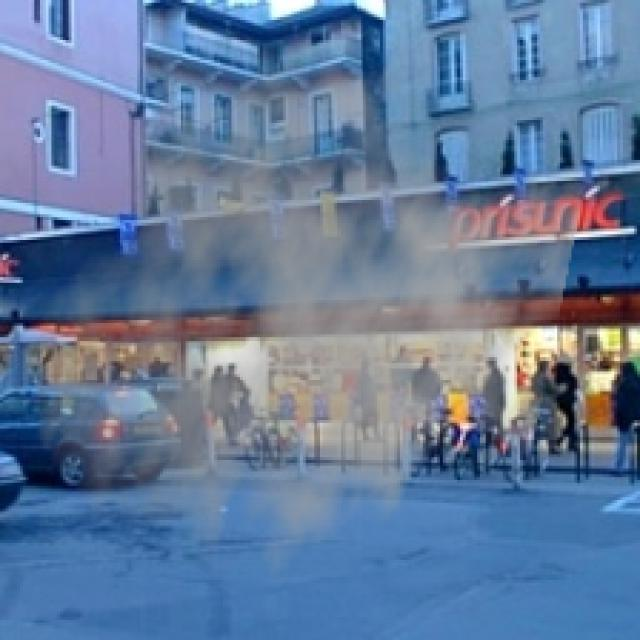Smoke: (28, 37, 586, 603)
